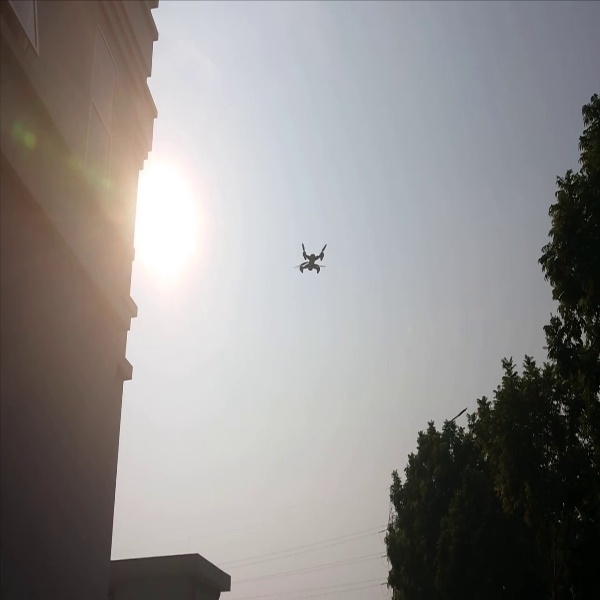drone: (293, 239, 333, 276)
